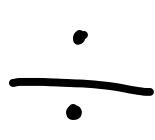div: (9, 30, 154, 120)
